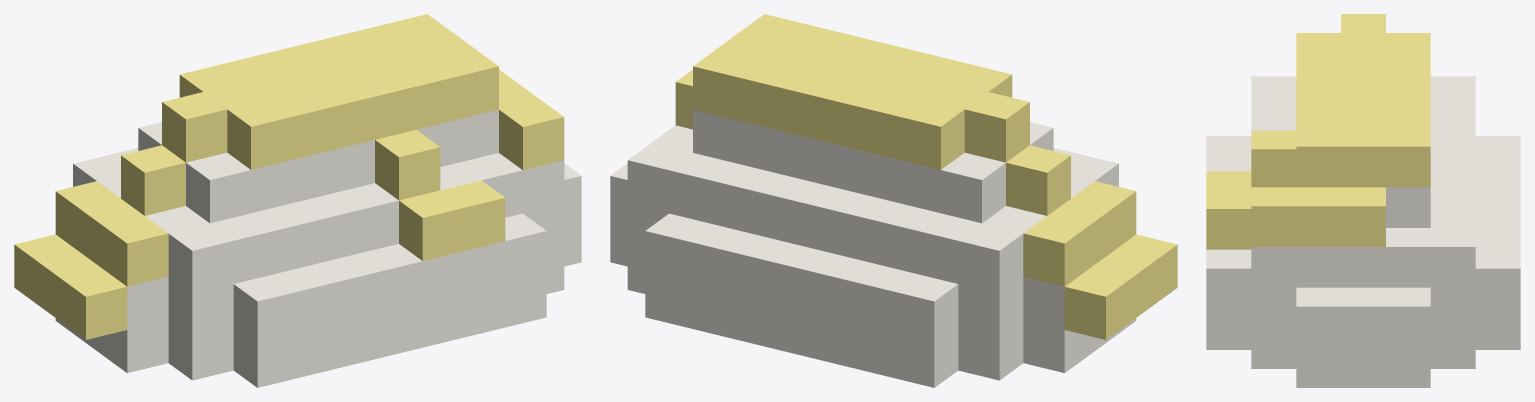
The model's file is comida-5 (1).obj.
The picture shows the model from 3 angles, left to right: view 1: azimuth 30°, elevation 25°; view 2: azimuth 150°, elevation 25°; view 3: azimuth 270°, elevation 25°; orthographic projection. The views are drawn at different scales.
Size of the model in its own units: 4.8 by 2 by 2.8.
Materials: 1 (1 with a texture image).
